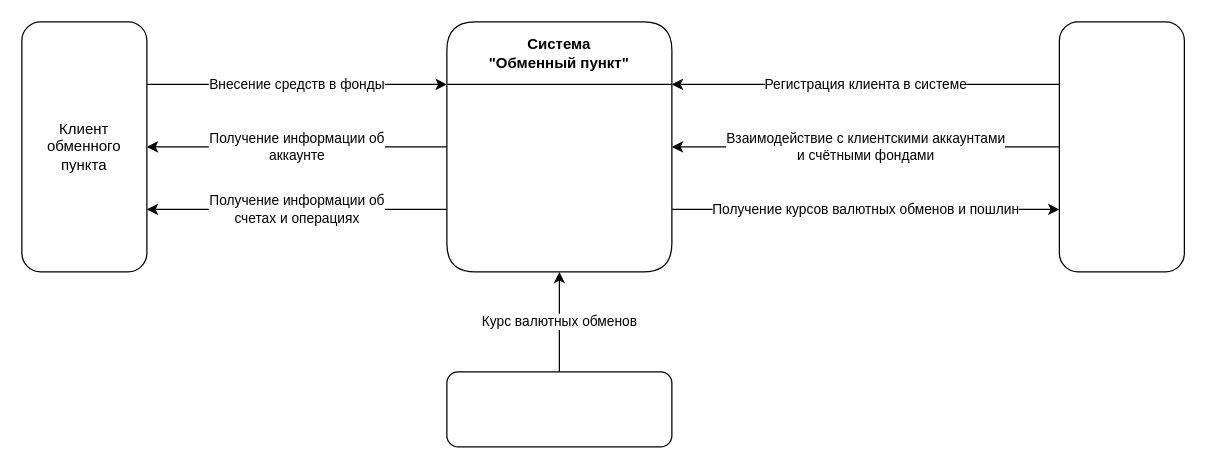
Some shapes in this 1206 by 469 pixel diagram are drawn without their labels. Here are the shapes that lost their labels. From the top down, the centre of each, then its label:
point 1121,146: Сотрудник обменного пункта
point 559,409: ЦБ РФ
